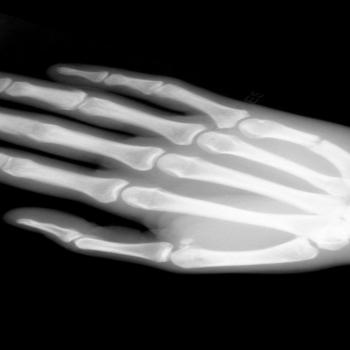Fracture: (301, 131, 340, 153)
